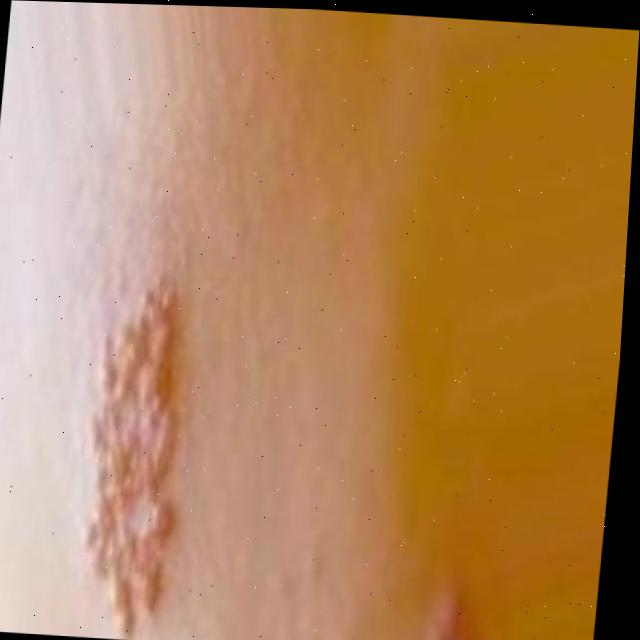Shingles: (75, 278, 199, 627), (406, 577, 498, 640)
